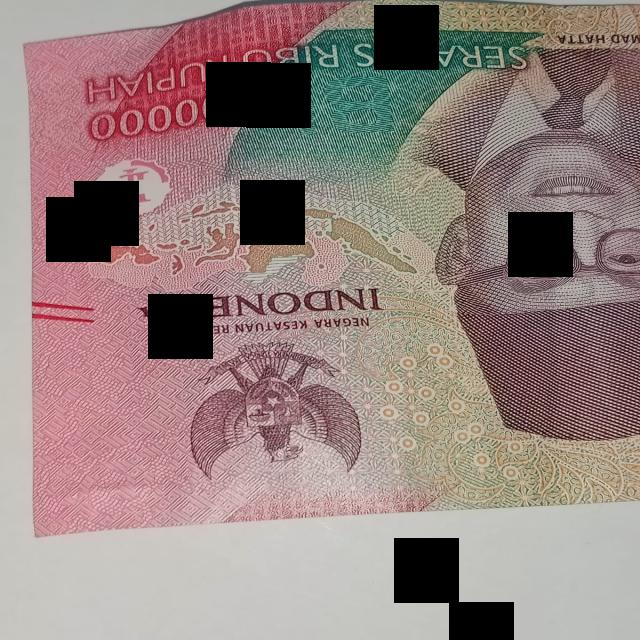seratusribu rupiah: (25, 0, 640, 534)
